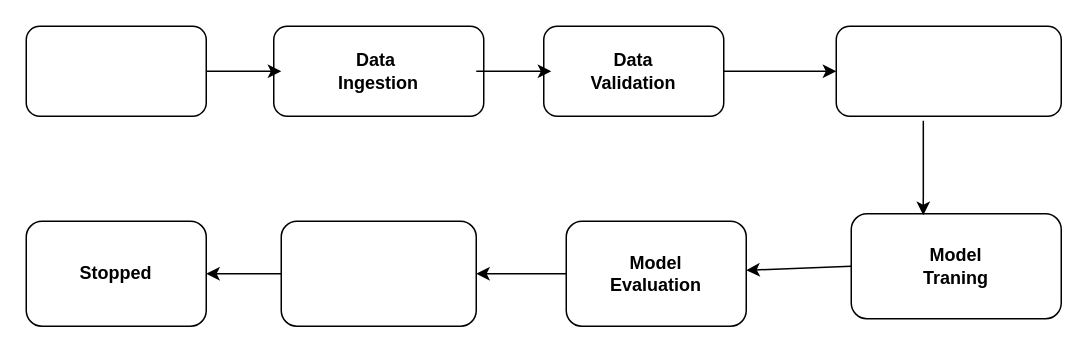
The diagram is 1088 pixels wide and 353 high, and some of its shapes have lost their labels. The centre of each missing label's shape, as x and y in pixels:
"Data Transformation" belongs at (948,70).
"Push Model" belongs at (378,273).
"Starts" belongs at (115,70).
